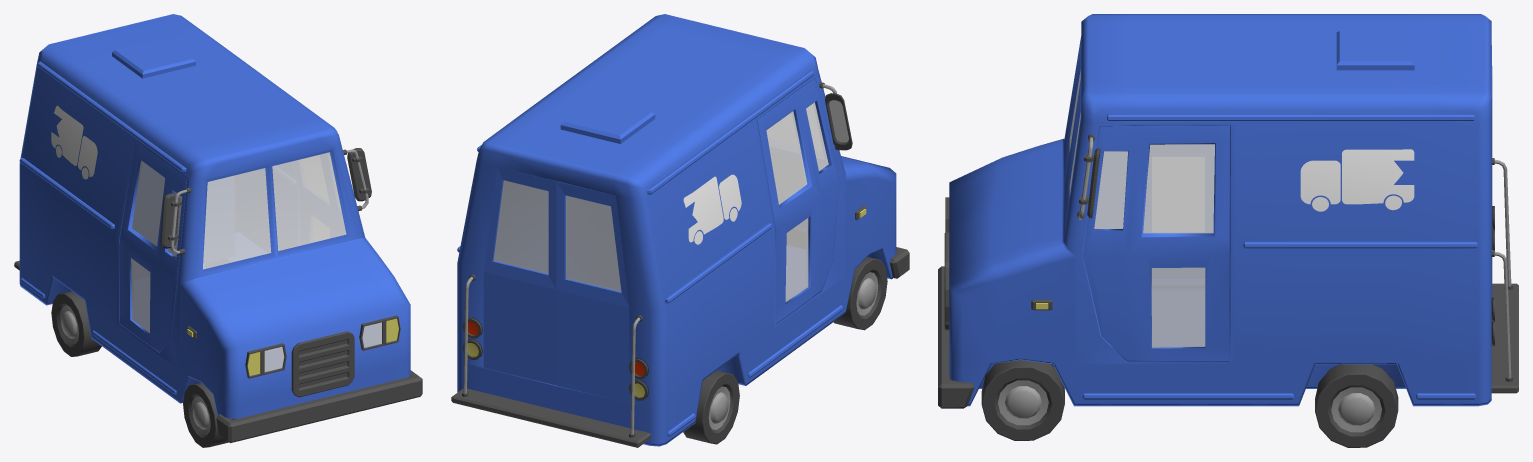
Rendered from Cargo_Car.fbx.
3 renders of one model, left to right at view 1: azimuth 30°, elevation 25°; view 2: azimuth 150°, elevation 25°; view 3: azimuth 270°, elevation 25°, orthographic. The views are drawn at different scales.
Visible parts, largest first — view 1: Car, Front_Door_Right, Back_Tyre, Front_Tyre, Logo; view 2: Car, Back_Door_Right, Back_Door_Left, Front_Door_Right, Back_Tyre, Logo, Front_Tyre; view 3: Car, Front_Door_Left, Back_Tyre, Front_Tyre, Logo.
Boxes of the visible parts, x1,y1,x2,y2 form: Car: (14, 14, 422, 443); Front_Door_Right: (119, 141, 186, 352); Back_Tyre: (51, 291, 101, 356); Front_Tyre: (183, 382, 228, 447); Logo: (51, 105, 97, 179); Car: (451, 14, 909, 447); Back_Door_Right: (556, 181, 629, 402); Back_Door_Left: (483, 167, 556, 385); Front_Door_Right: (757, 78, 840, 323); Back_Tyre: (683, 370, 739, 444); Logo: (683, 174, 741, 244); Front_Tyre: (833, 257, 887, 330); Car: (938, 14, 1518, 408); Front_Door_Left: (1083, 125, 1229, 361); Back_Tyre: (1315, 364, 1398, 447); Front_Tyre: (981, 360, 1064, 440); Logo: (1300, 149, 1414, 211).
Size of the model in its own units: 5.68 by 7 by 10.71.
8 materials, 1 textured.
